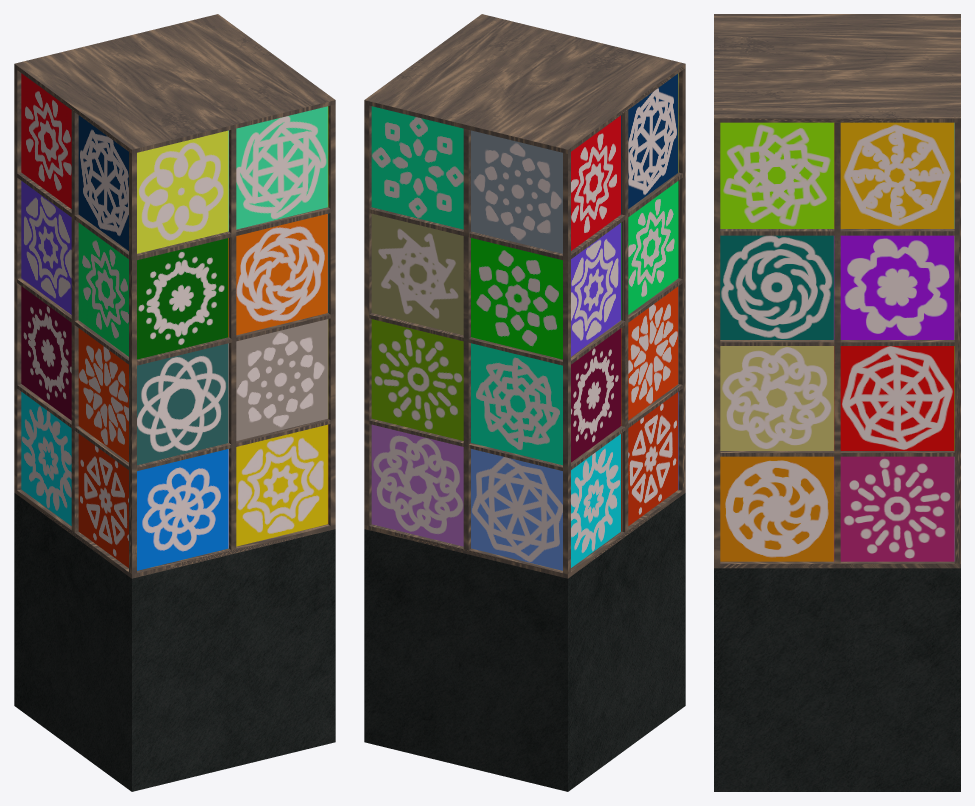
The model's file is PaperLantern-4steps.fbx.
3 views of the same model, side by side, from view 1: azimuth 30°, elevation 25°; view 2: azimuth 150°, elevation 25°; view 3: azimuth 270°, elevation 25° (orthographic). The views are drawn at different scales.
Visible parts, largest first — view 1: BoxLight-4steps; view 2: BoxLight-4steps; view 3: BoxLight-4steps.
Part boxes in pixels (left/top/right/bottom): BoxLight-4steps: left=14, top=14, right=335, bottom=791; BoxLight-4steps: left=364, top=14, right=685, bottom=791; BoxLight-4steps: left=714, top=14, right=960, bottom=791.
Size of the model in its own units: 30 by 30 by 90.36.
